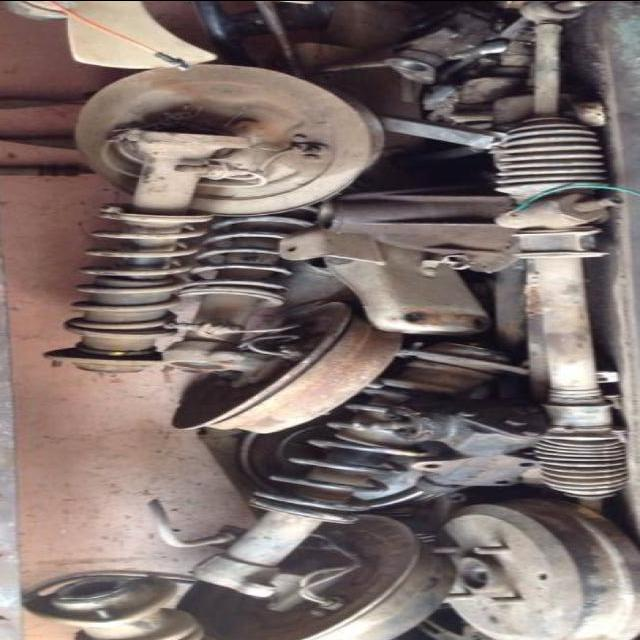shock absorber: (42, 63, 381, 373), (186, 339, 529, 597)
